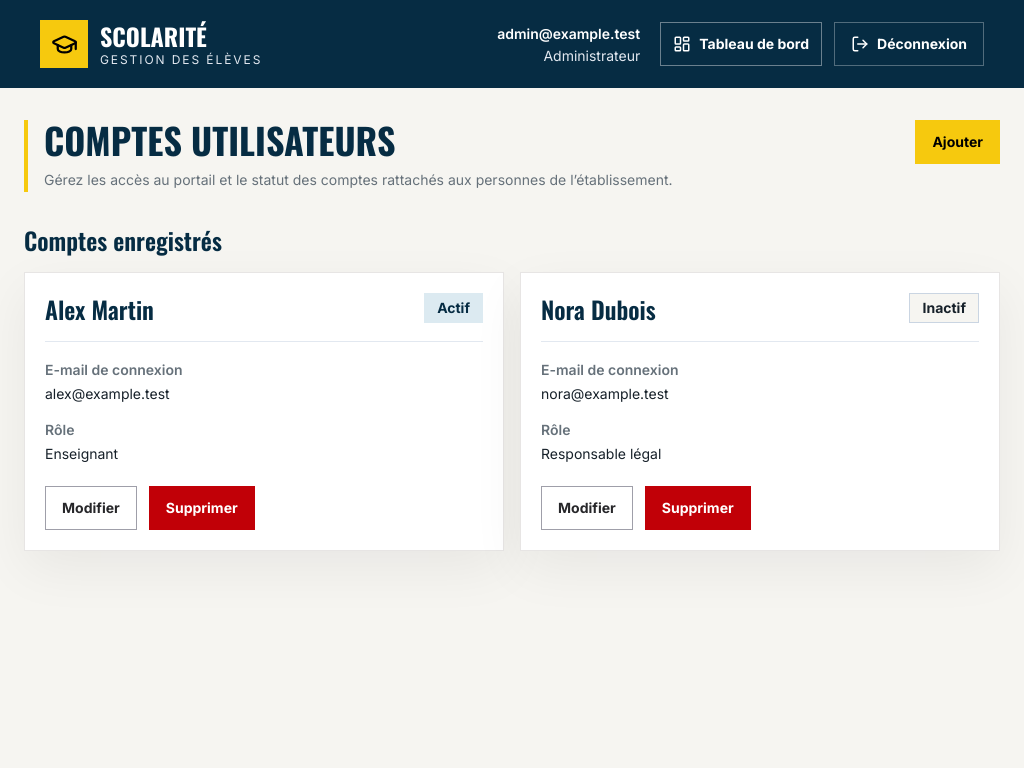
comptes utilisateurs › préserve la modification avec actif=true et le mot de passe inchangé
Expected: the heading "Alex Martin" is shown, [45, 291, 154, 327]
Click the button "Modifier" below "Enseignant".
click(91, 508)  # box [45, 486, 137, 530]
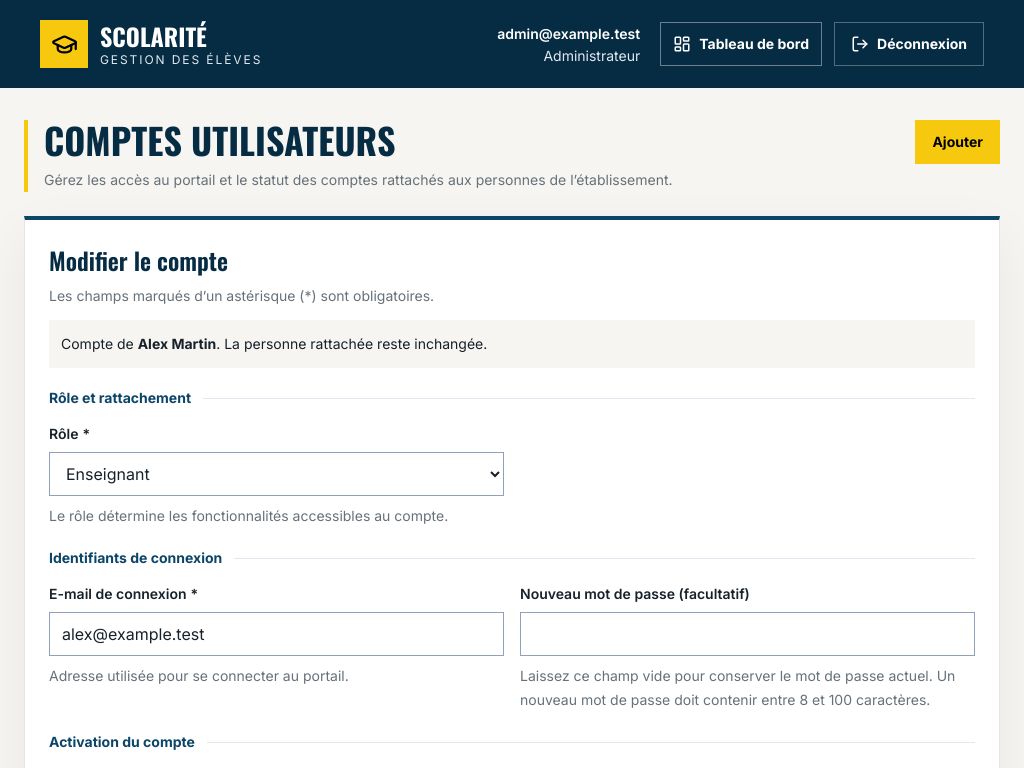
Expected: the password field labelled "Nouveau mot de passe (facultatif)" is empty, [520, 612, 975, 656]
Replace the text in the field labelled "E-mail de connexion" with "alex2@example.test" at (276, 634), box [49, 612, 504, 656]
(page scrolled)
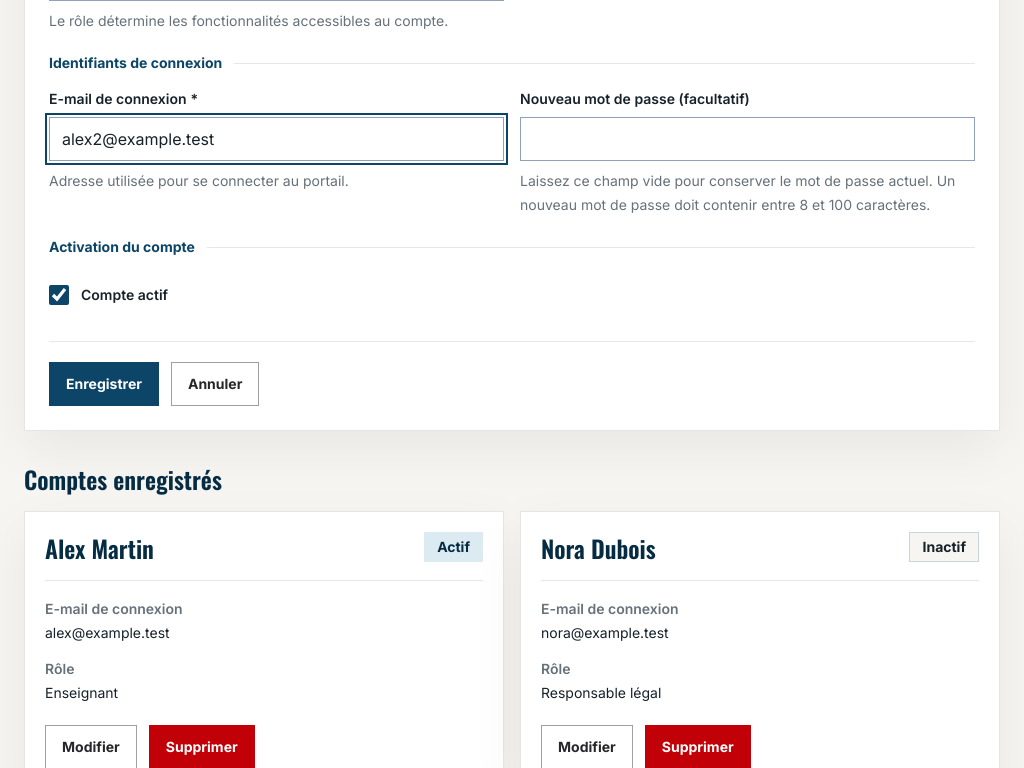
Click the button "Enregistrer".
click(104, 384)  # box [49, 362, 159, 406]
(page scrolled)
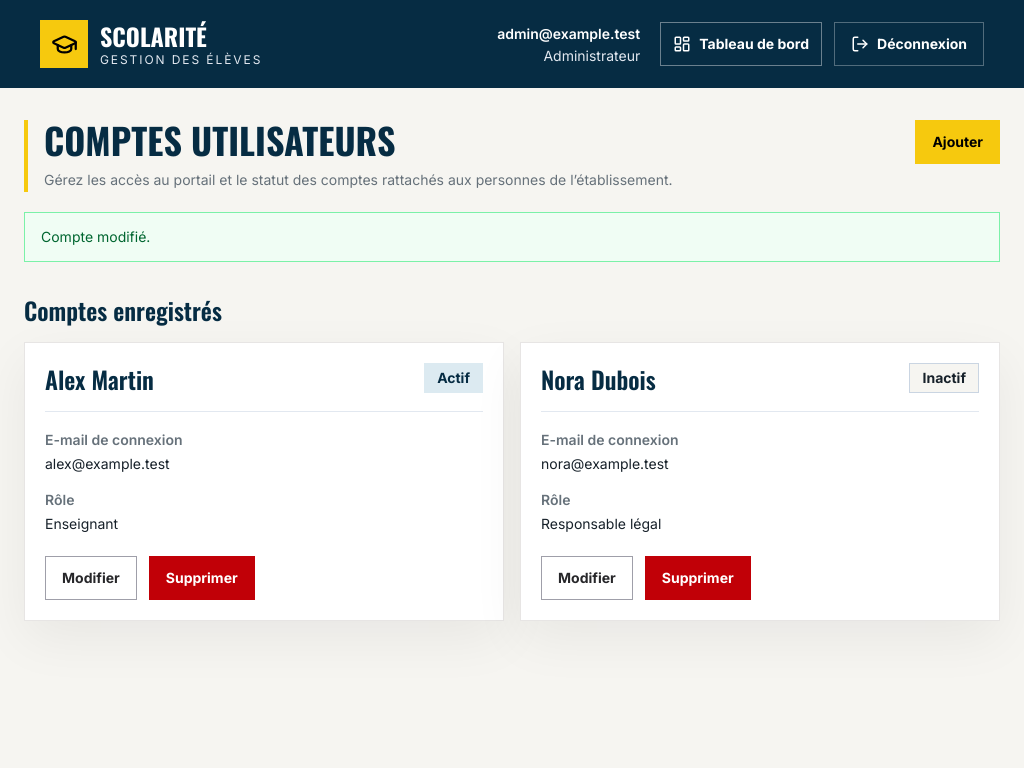
Expected: the text "Compte modifié." is shown, [24, 212, 1000, 262]
